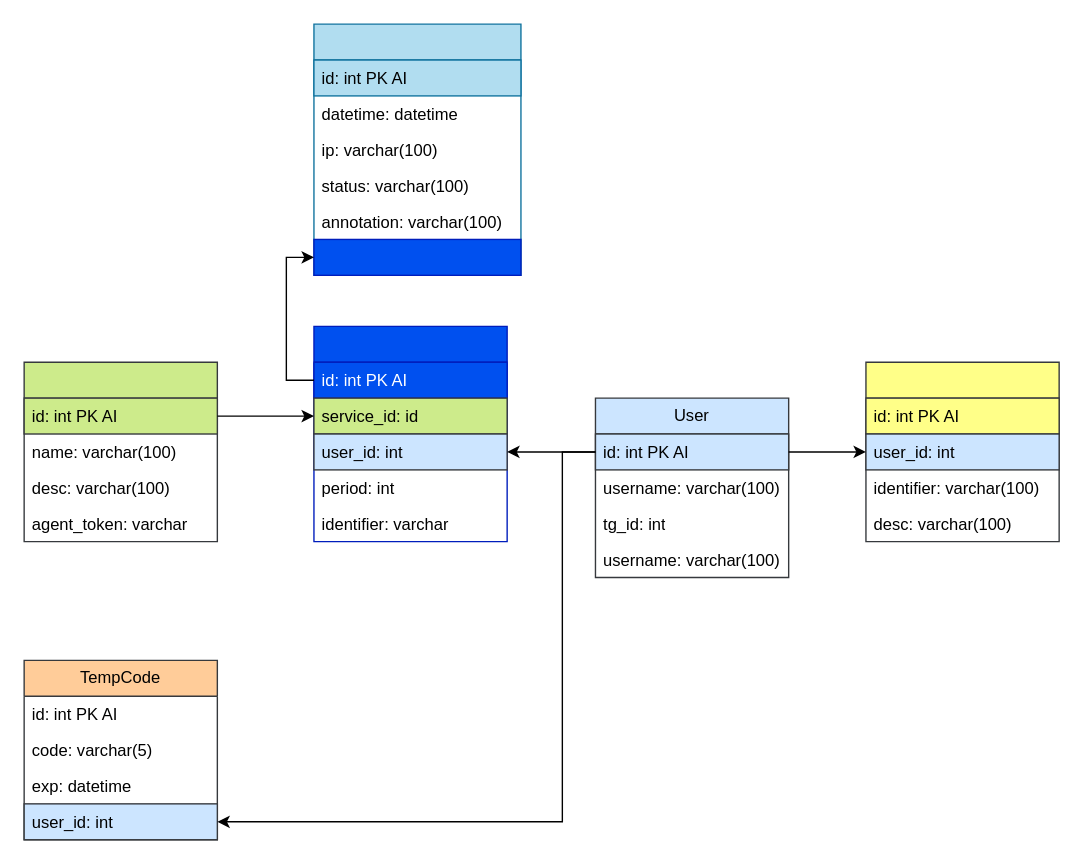
Image size: 1083x868. Some labels were removed from this diagram. Each missing label, with the box of its shape:
AgentService: (23, 361, 217, 542)
CustomSecret: (865, 361, 1059, 542)
ServiceLogs: (313, 23, 521, 275)
user_service_id: int: (313, 238, 521, 275)
User_Services: (313, 325, 507, 542)
